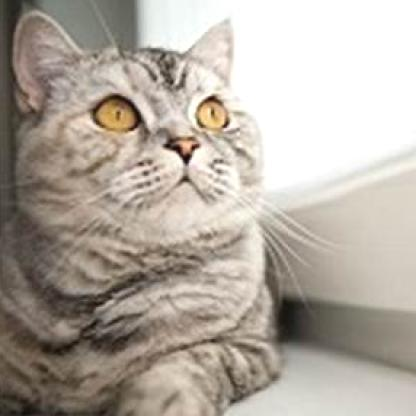cat: (0, 9, 287, 414)
